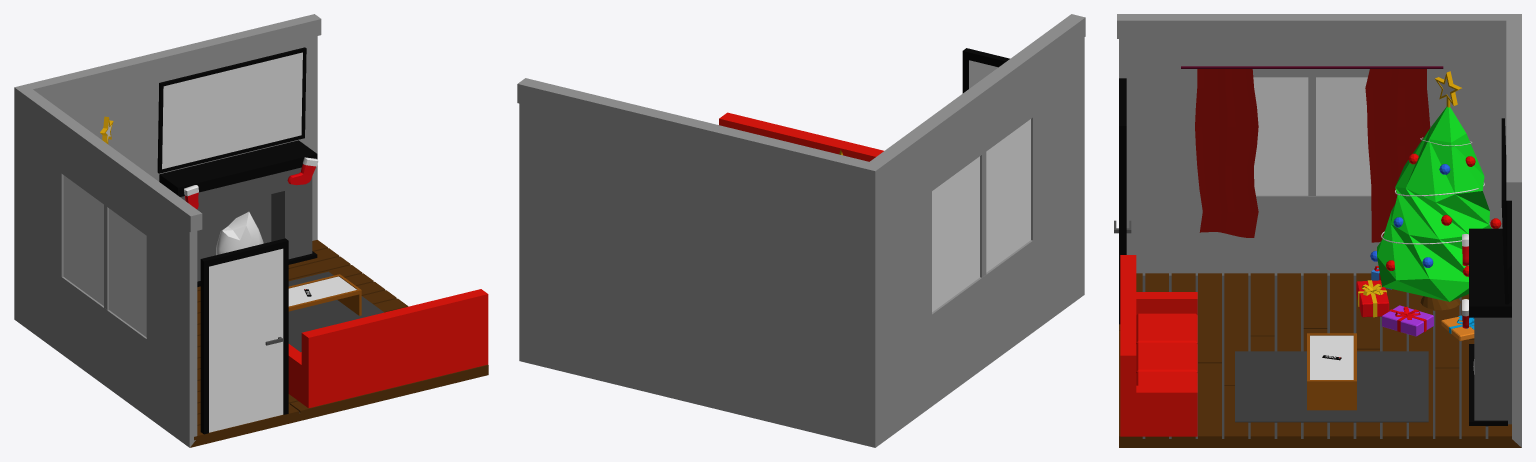
Rendered from uploads-files-4188562-ChristmasRoom.fbx.
3 renders of one model, left to right at view 1: azimuth 30°, elevation 25°; view 2: azimuth 150°, elevation 25°; view 3: azimuth 270°, elevation 25°, orthographic. The views are drawn at different scales.
Visible parts, largest first — view 1: Room, Couch, TV, Door, Fireplace, DoorFrame, FloorMat, CoffeeTable, Fire, RightSock; view 2: Room, Couch, DoorFrame; view 3: Room, Curtain, ChristmasTree, Couch, FloorMat, Fireplace, CoffeeTable, DoorFrame, TV, PurpleGift, RedGift, OrangeGift.
Part boxes in pixels (box(x1,y1,x2,y2)): Room: box(14, 14, 488, 447); Couch: box(288, 289, 488, 408); TV: box(157, 47, 306, 173); Door: box(209, 248, 283, 432); Fireplace: box(159, 140, 317, 286); DoorFrame: box(200, 238, 288, 434); FloorMat: box(288, 271, 383, 352); CoffeeTable: box(288, 274, 361, 315); Fire: box(216, 211, 263, 255); RightSock: box(287, 157, 318, 185); Room: box(517, 14, 1085, 447); Couch: box(719, 112, 883, 161); DoorFrame: box(962, 48, 1009, 93); Room: box(1117, 14, 1521, 447); Curtain: box(1181, 66, 1443, 242); ChristmasTree: box(1370, 71, 1501, 310); Couch: box(1120, 255, 1197, 436); FloorMat: box(1235, 351, 1428, 422); Fireplace: box(1469, 228, 1511, 426); CoffeeTable: box(1307, 333, 1356, 410); DoorFrame: box(1119, 78, 1126, 324); TV: box(1501, 118, 1511, 304); PurpleGift: box(1382, 305, 1433, 336); RedGift: box(1356, 280, 1389, 317); OrangeGift: box(1441, 315, 1474, 341).
Size of the model in its own units: 201 by 149 by 206.
